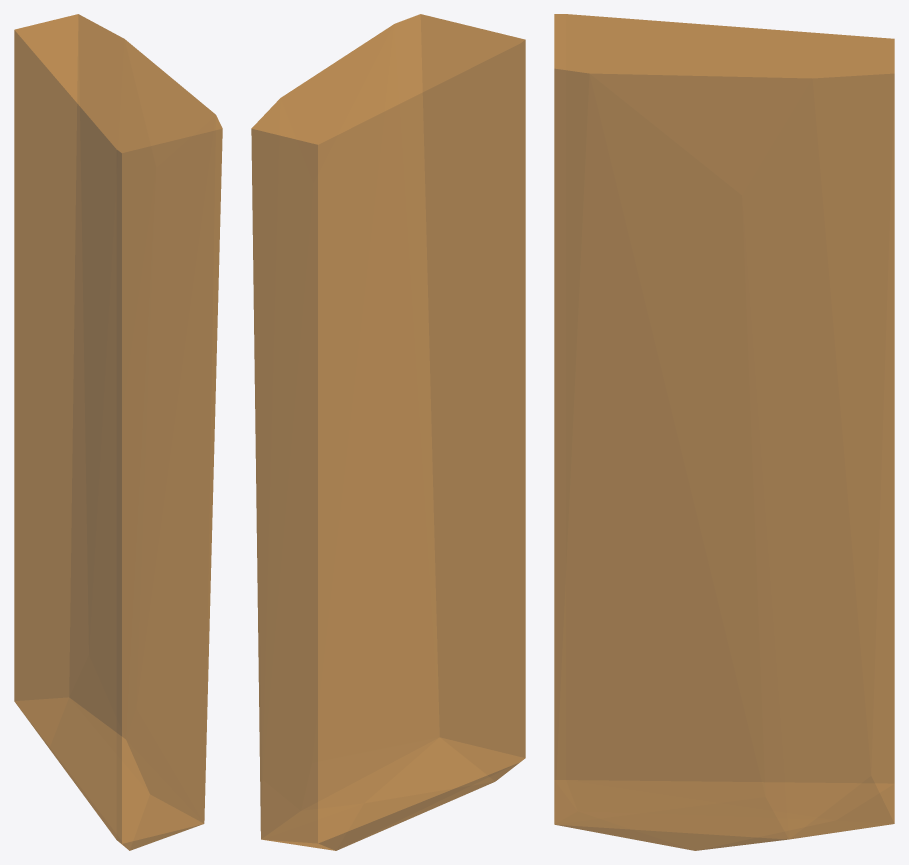
3 renders of one model, left to right at view 1: azimuth 30°, elevation 25°; view 2: azimuth 150°, elevation 25°; view 3: azimuth 270°, elevation 25°, orthographic. The views are drawn at different scales.
Visible parts, largest first — view 1: Shape_IndexedFaceSet.011_Shape_IndexedFaceSet.15993; view 2: Shape_IndexedFaceSet.011_Shape_IndexedFaceSet.15993; view 3: Shape_IndexedFaceSet.011_Shape_IndexedFaceSet.15993.
Part boxes in pixels (x1,y1,x2,y2): Shape_IndexedFaceSet.011_Shape_IndexedFaceSet.15993: (14, 14, 222, 850); Shape_IndexedFaceSet.011_Shape_IndexedFaceSet.15993: (251, 14, 525, 850); Shape_IndexedFaceSet.011_Shape_IndexedFaceSet.15993: (554, 14, 894, 850).
Size of the model in its own units: 0.0449 by 0.2557 by 0.1002.
